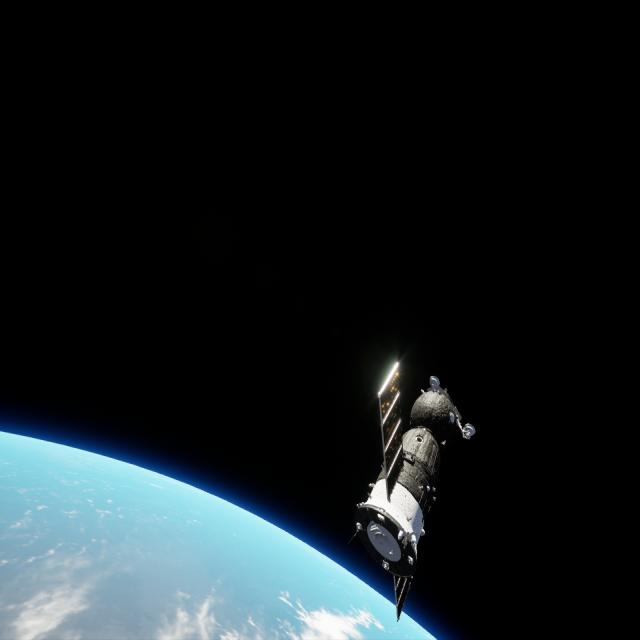Satellites revolving around earth: (351, 355, 477, 622)
